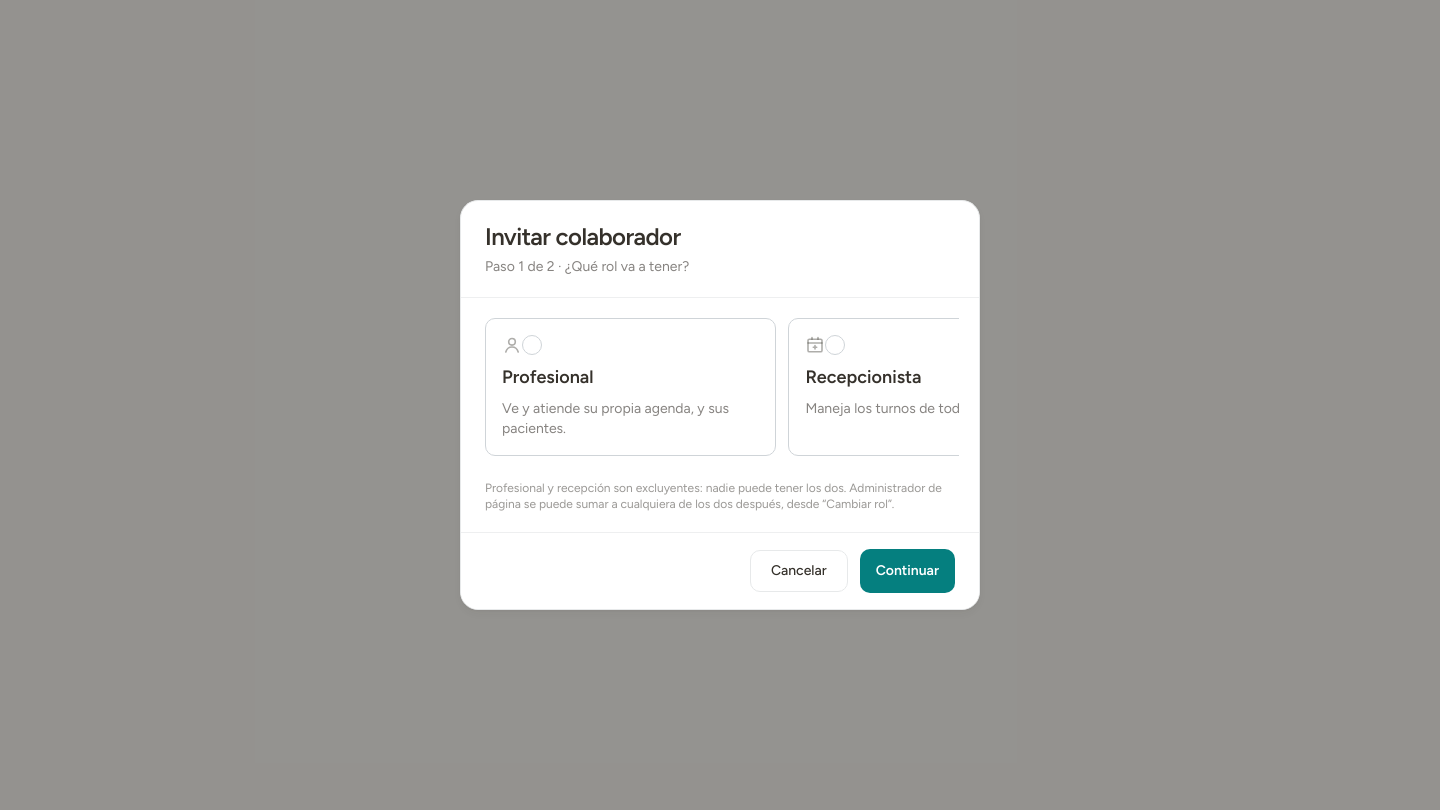
Scenario: InvitarColaboradorModal (Fase 3.2.4) › no deja pasar al paso 2 sin elegir rol
Click the button "Continuar". click: (907, 571)
box: [860,549,955,593]
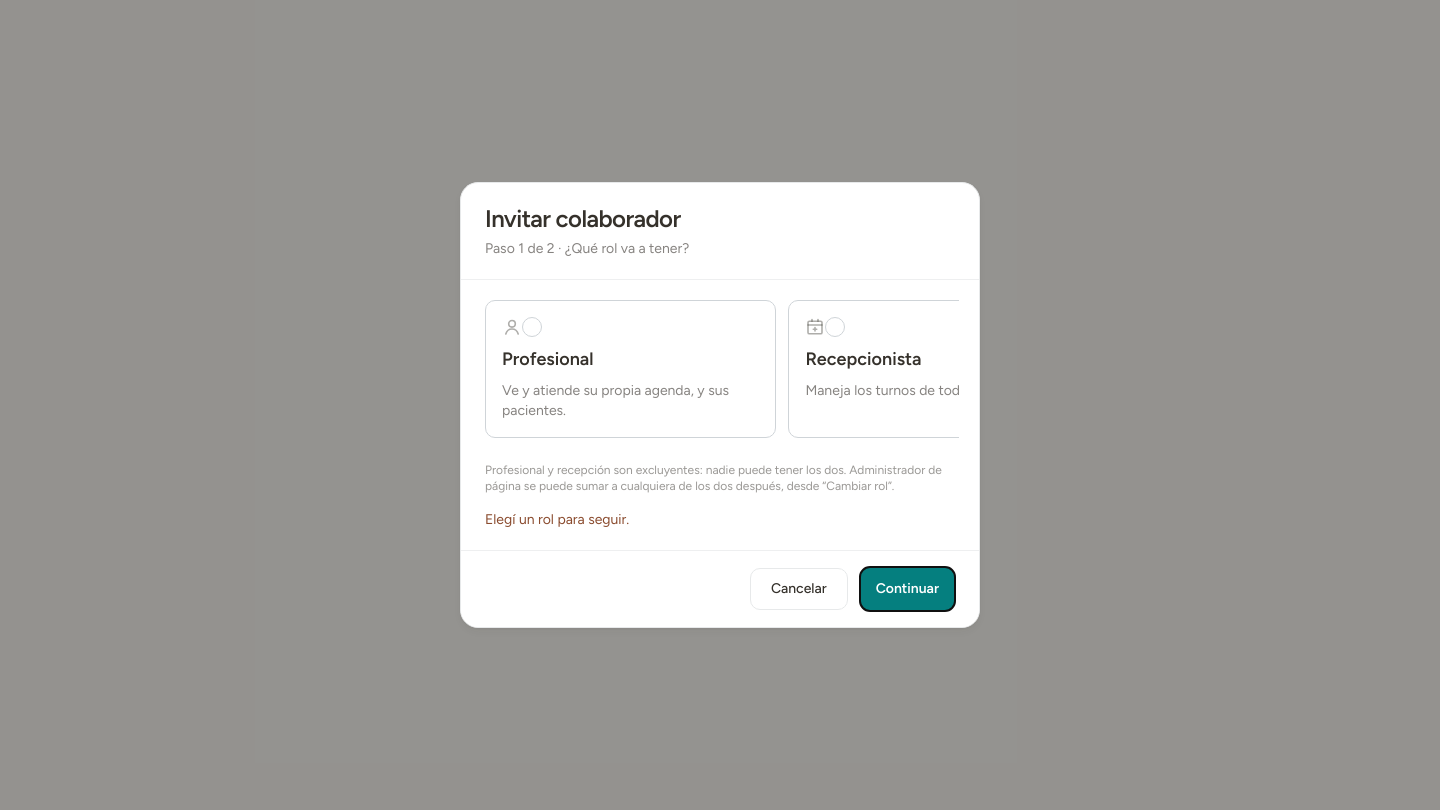
Expected: the text "Elegí un rol para seguir." is shown, [485,511,629,528]
